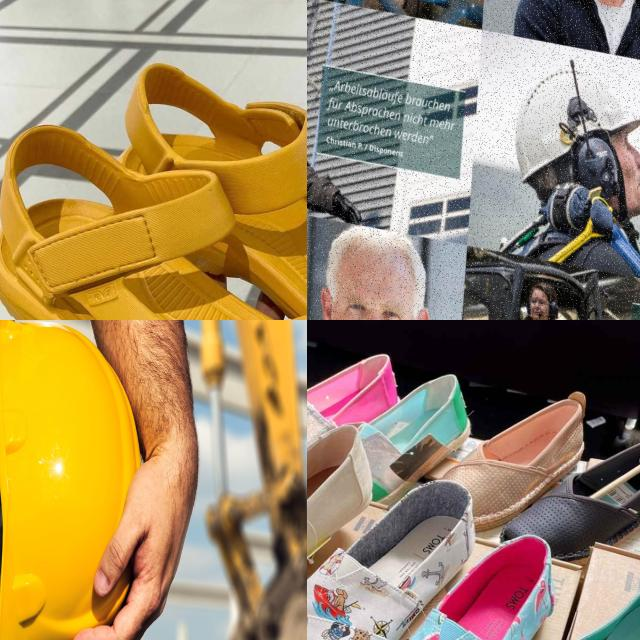No_Ear-Protection: (320, 283, 334, 320), (410, 309, 432, 320)
No_Glasses: (344, 295, 410, 320), (610, 134, 637, 154), (531, 296, 548, 306)
Sandals: (0, 47, 307, 320), (307, 460, 477, 640), (307, 523, 567, 640), (307, 408, 398, 640), (438, 561, 640, 640)
face_nomask: (620, 150, 640, 221), (531, 304, 549, 320)
hand_glove: (328, 194, 361, 227)
hand_noglove: (71, 410, 205, 640)
head_helmet: (0, 320, 145, 640), (516, 71, 640, 180)
head_nohelmet: (326, 226, 426, 312), (531, 282, 557, 302)
